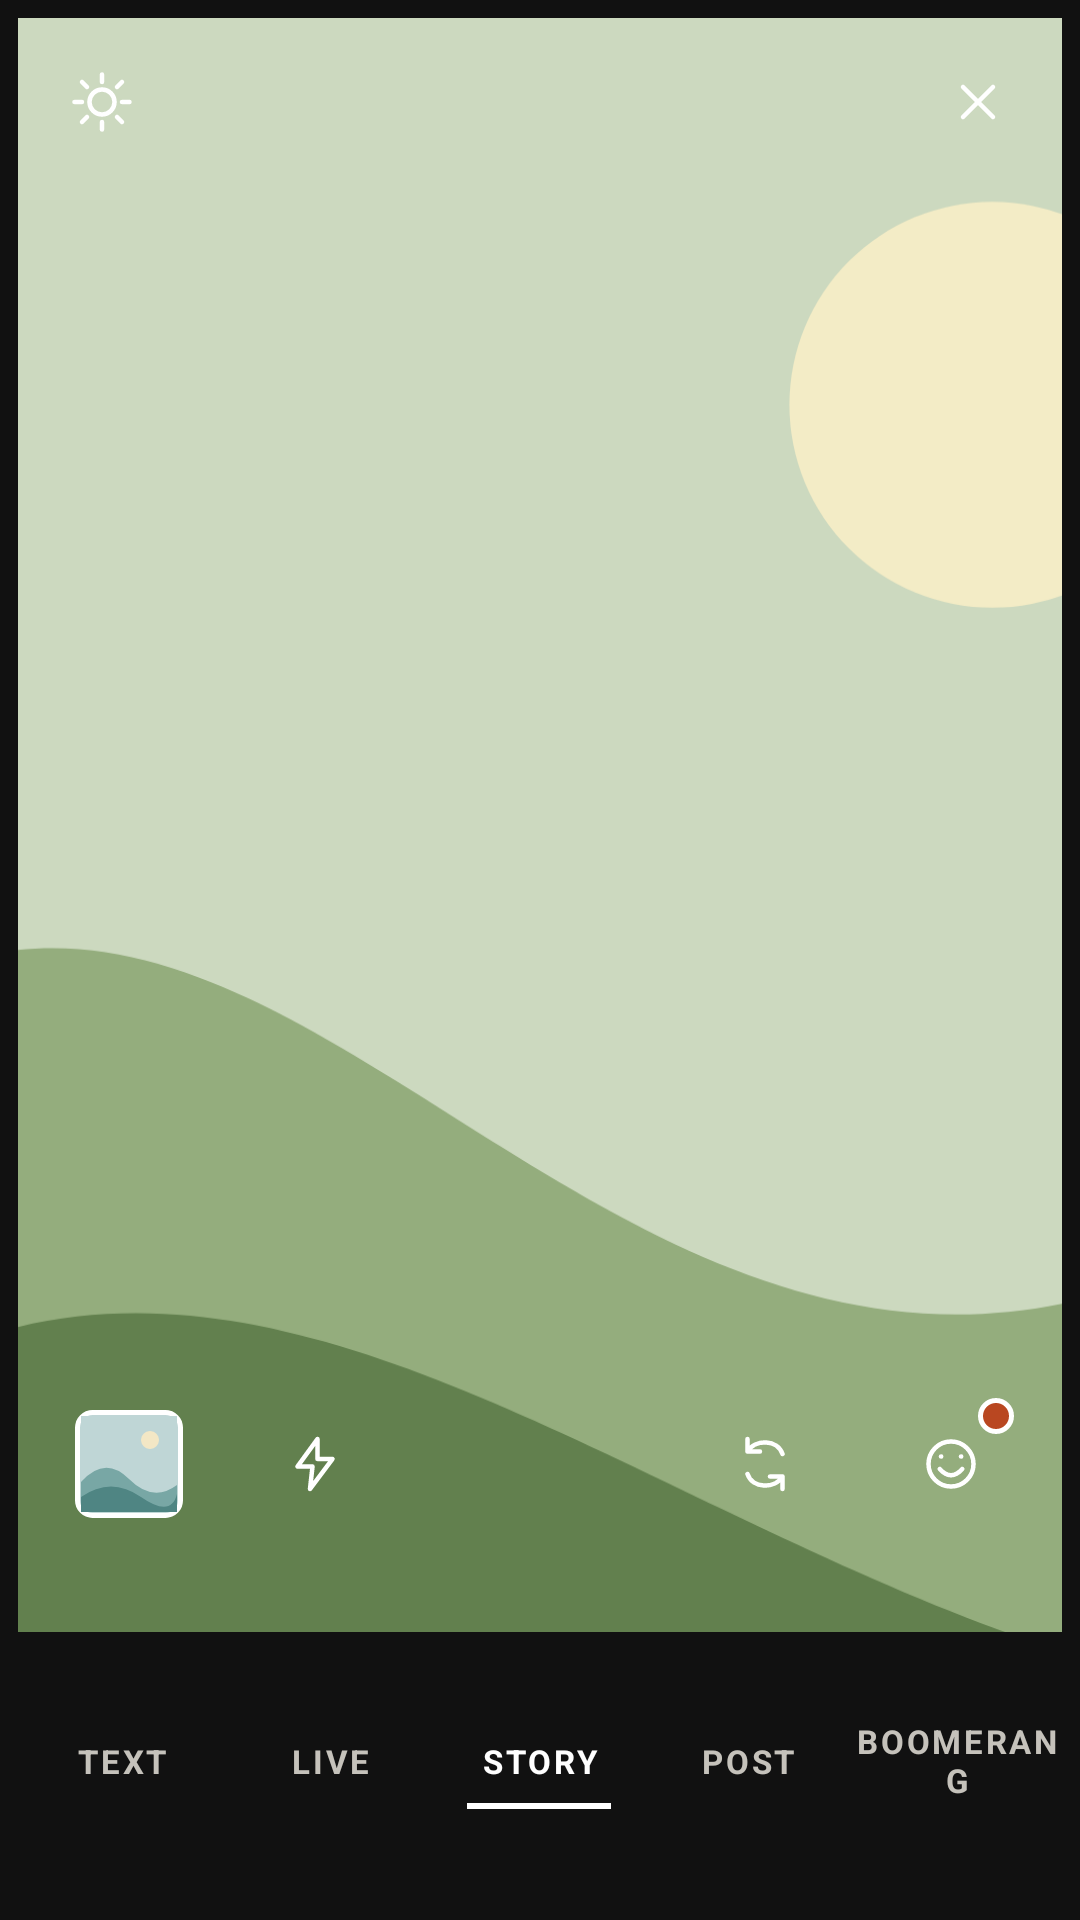

Icon bounding boxes for this 1080x1920 phone screenshot, format (x1, y1, x2, y2):
story close: (961, 85, 995, 119)
story flash: (295, 1436, 335, 1491)
story gallery thumb: (75, 1410, 183, 1518)
story refresh: (745, 1437, 785, 1491)
story smile: (926, 1439, 976, 1489)
story sun: (72, 72, 132, 132)
